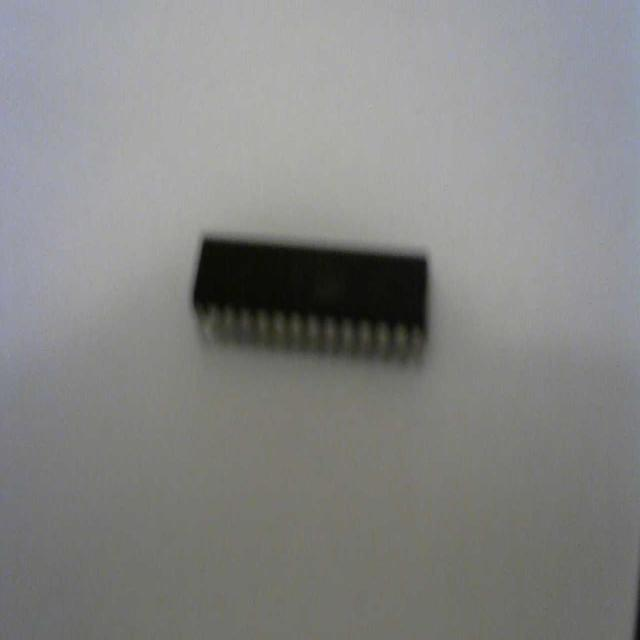atmega: (190, 228, 432, 370)
